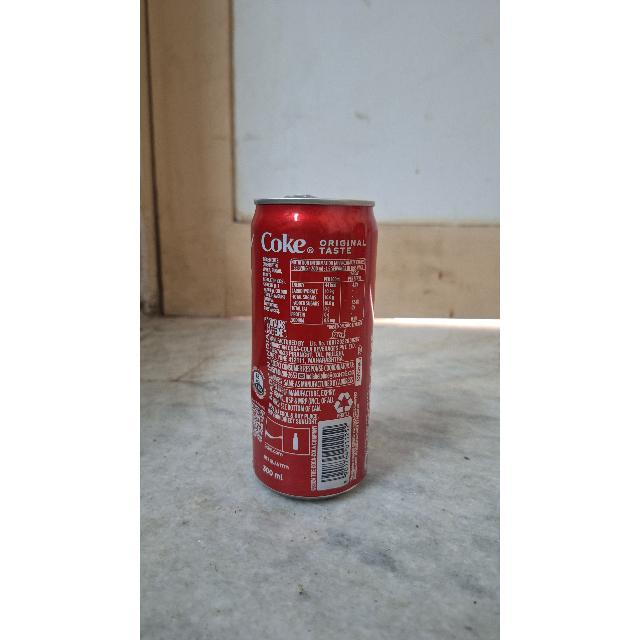Coca Cola: (250, 197, 374, 487)
